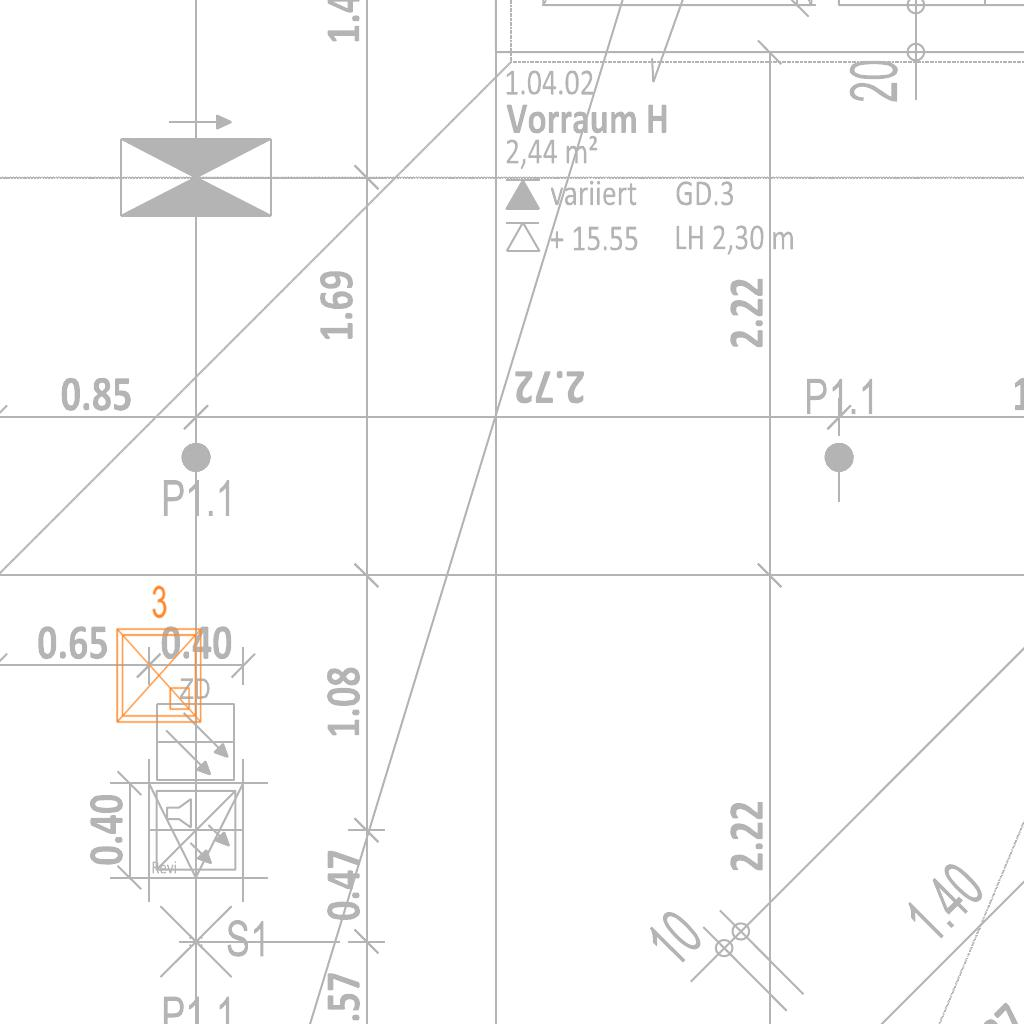Einbaudownlights_LED_Konferenzraeume: (105, 580, 209, 730)
